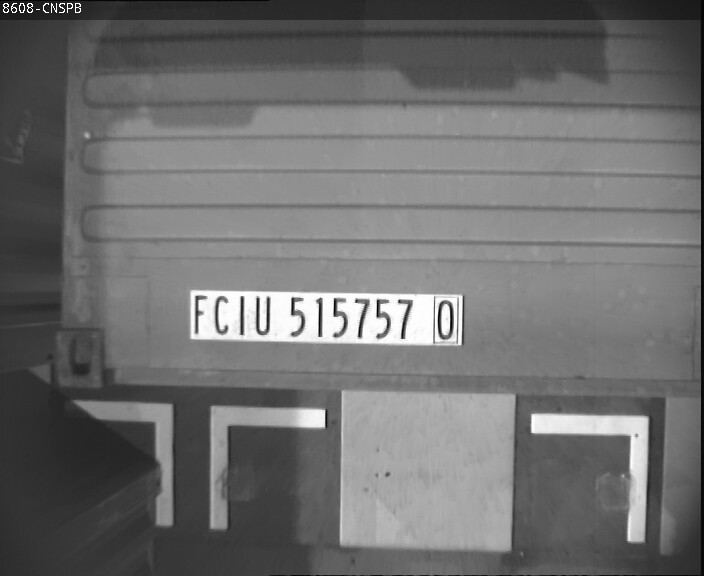groundmarker_1: (69, 402, 327, 528)
